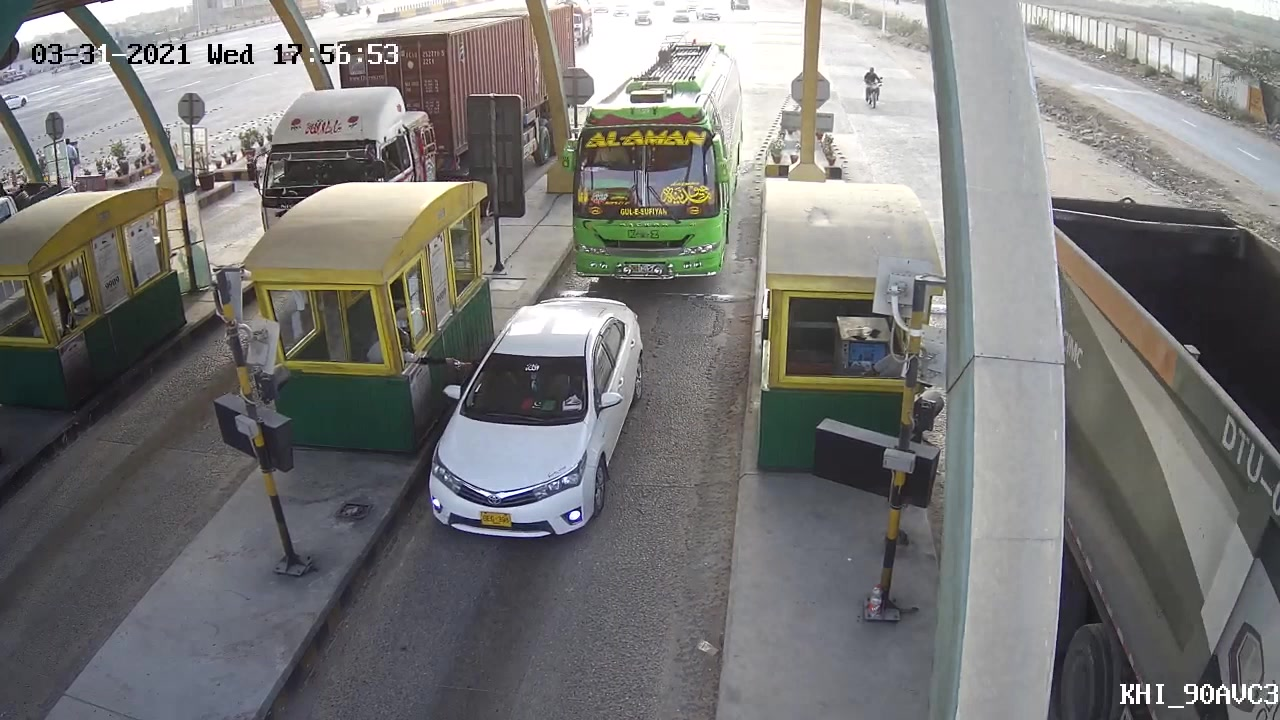F1: (423, 292, 654, 545)
F4: (560, 39, 750, 286)
